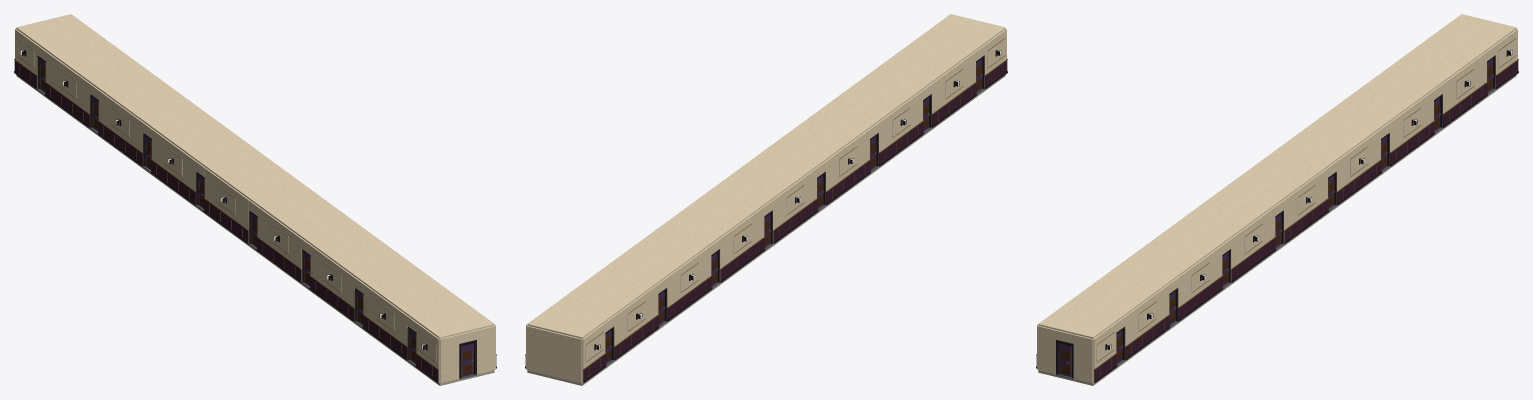
The model's file is explore3d__hotel_corridor.glb.
3 views of the same model, side by side, from view 1: azimuth 30°, elevation 25°; view 2: azimuth 150°, elevation 25°; view 3: azimuth 330°, elevation 25° (orthographic).
Parts seen in each view (by area): view 1: ceiling_surface.001, left_wall.011, left_wall.015, left_wall.013, left_wall.009, left_wall.007, left_wall.003, left_wall.005, floor.001, front_wall.005, front_wall.003, left_wainscot.005 (+8 smaller); view 2: ceiling_surface.001, back_wall.006, left_wall.007, left_wall.003, left_wall.005, left_wall.009, left_wall.011, floor.001, left_wall.013, left_wall.015, left_wainscot.003, left_wainscot.004 (+7 smaller); view 3: ceiling_surface.001, right_wall.007, right_wall.003, right_wall.005, right_wall.009, right_wall.011, right_wall.013, right_wall.015, floor.001, front_wall.003, front_wall.005, right_wainscot.003 (+8 smaller).
Boxes of the visible parts, x1=… form: ceiling_surface.001: x1=16, y1=14, x2=494, y2=338; left_wall.011: x1=257, y1=207, x2=302, y2=281; left_wall.015: x1=363, y1=284, x2=408, y2=346; left_wall.013: x1=310, y1=245, x2=355, y2=307; left_wall.009: x1=205, y1=168, x2=249, y2=243; left_wall.007: x1=152, y1=129, x2=196, y2=191; left_wall.003: x1=46, y1=52, x2=90, y2=113; left_wall.005: x1=99, y1=90, x2=143, y2=152; floor.001: x1=16, y1=75, x2=494, y2=385; front_wall.005: x1=439, y1=334, x2=460, y2=383; front_wall.003: x1=475, y1=325, x2=495, y2=374; left_wainscot.005: x1=204, y1=199, x2=248, y2=244; ceiling_surface.001: x1=527, y1=14, x2=1005, y2=338; back_wall.006: x1=526, y1=325, x2=582, y2=383; left_wall.007: x1=719, y1=207, x2=764, y2=281; left_wall.003: x1=613, y1=284, x2=658, y2=346; left_wall.005: x1=666, y1=245, x2=711, y2=307; left_wall.009: x1=772, y1=168, x2=816, y2=243; left_wall.011: x1=825, y1=129, x2=869, y2=191; floor.001: x1=527, y1=75, x2=1005, y2=385; left_wall.013: x1=878, y1=90, x2=922, y2=152; left_wall.015: x1=931, y1=52, x2=975, y2=113; left_wainscot.003: x1=667, y1=277, x2=711, y2=321; left_wainscot.004: x1=720, y1=238, x2=764, y2=282; ceiling_surface.001: x1=1038, y1=14, x2=1516, y2=338; right_wall.007: x1=1230, y1=207, x2=1275, y2=281; right_wall.003: x1=1124, y1=284, x2=1169, y2=346; right_wall.005: x1=1177, y1=245, x2=1222, y2=307; right_wall.009: x1=1283, y1=168, x2=1327, y2=243; right_wall.011: x1=1336, y1=129, x2=1380, y2=191; right_wall.013: x1=1389, y1=90, x2=1433, y2=152; right_wall.015: x1=1442, y1=52, x2=1486, y2=113; floor.001: x1=1038, y1=75, x2=1516, y2=385; front_wall.003: x1=1072, y1=334, x2=1093, y2=383; front_wall.005: x1=1037, y1=325, x2=1057, y2=374; right_wainscot.003: x1=1178, y1=277, x2=1222, y2=321.
Bounding box in the file's own units: 5.16 × 3.56 × 56.3.
12 materials, 11 textured.
